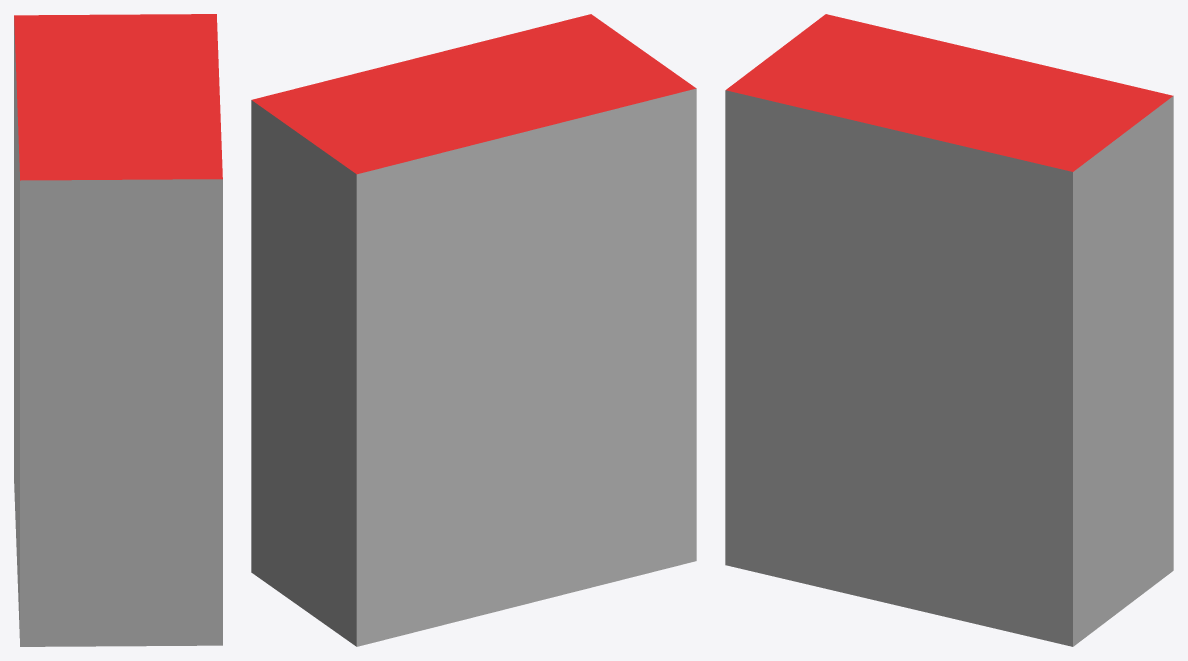
The model's file is pb-96359a0a-7f36-11f0-a557-9c7bef4dcf4c.dae.
The picture shows the model from 3 angles, left to right: view 1: azimuth 30°, elevation 25°; view 2: azimuth 150°, elevation 25°; view 3: azimuth 270°, elevation 25°; orthographic projection.
Bounding box in the file's own units: 23.55 × 28.22 × 33.
